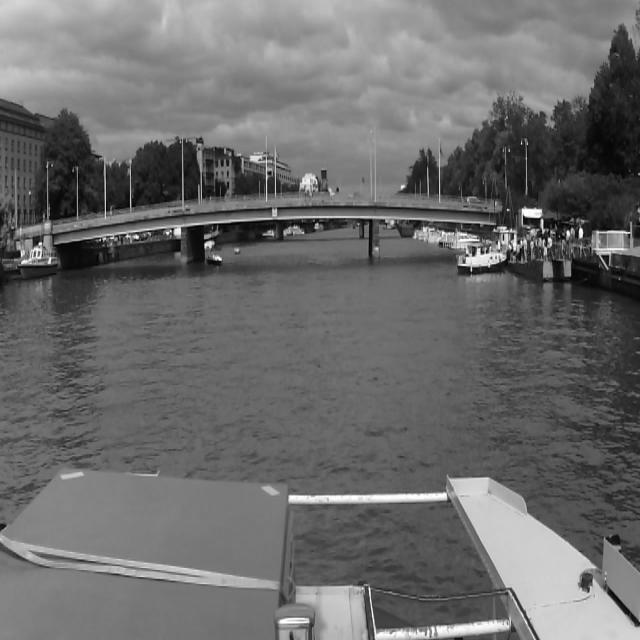ship: (458, 241, 509, 272), (20, 246, 58, 276), (205, 250, 222, 268)
